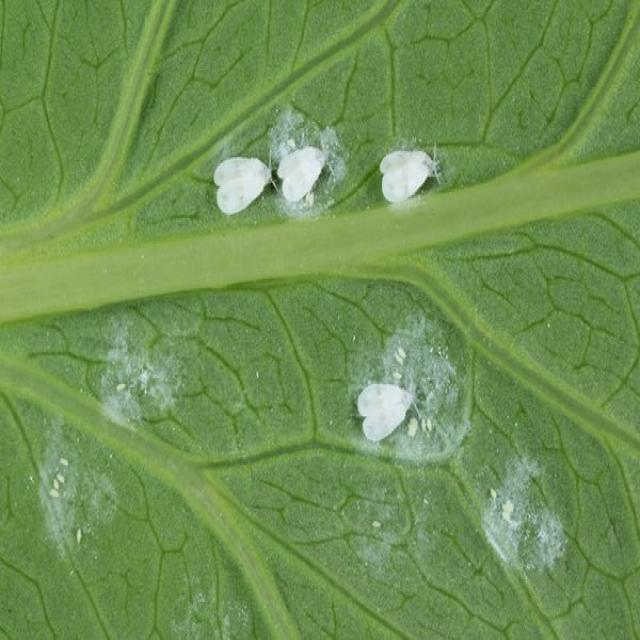Whitefly: (195, 92, 452, 224), (335, 294, 480, 460), (85, 301, 197, 442), (22, 428, 110, 591), (486, 443, 572, 578), (352, 474, 441, 589)
